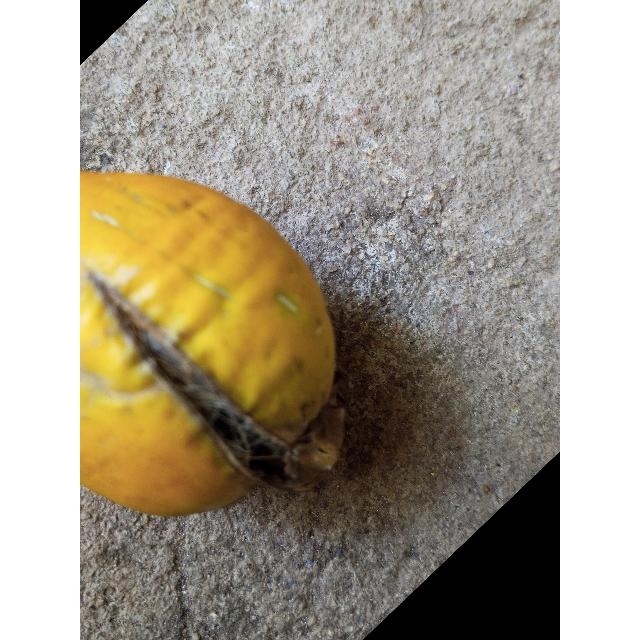damaged: (80, 171, 343, 520)
